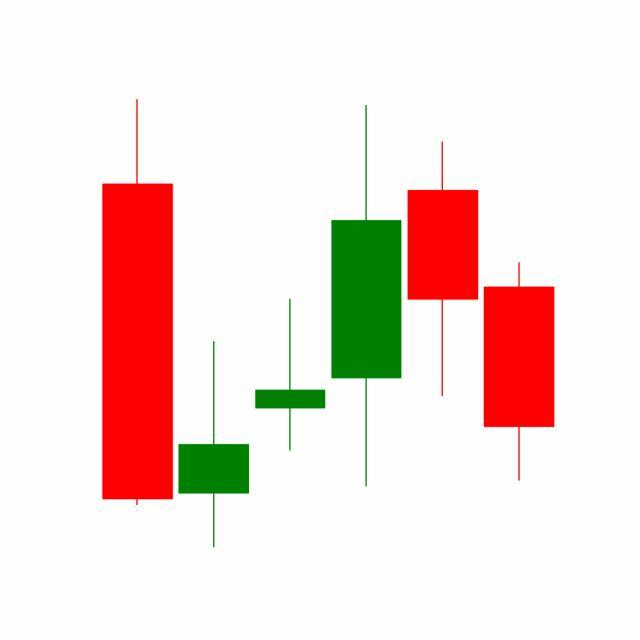Hikkake Pattern: (175, 101, 555, 548)
